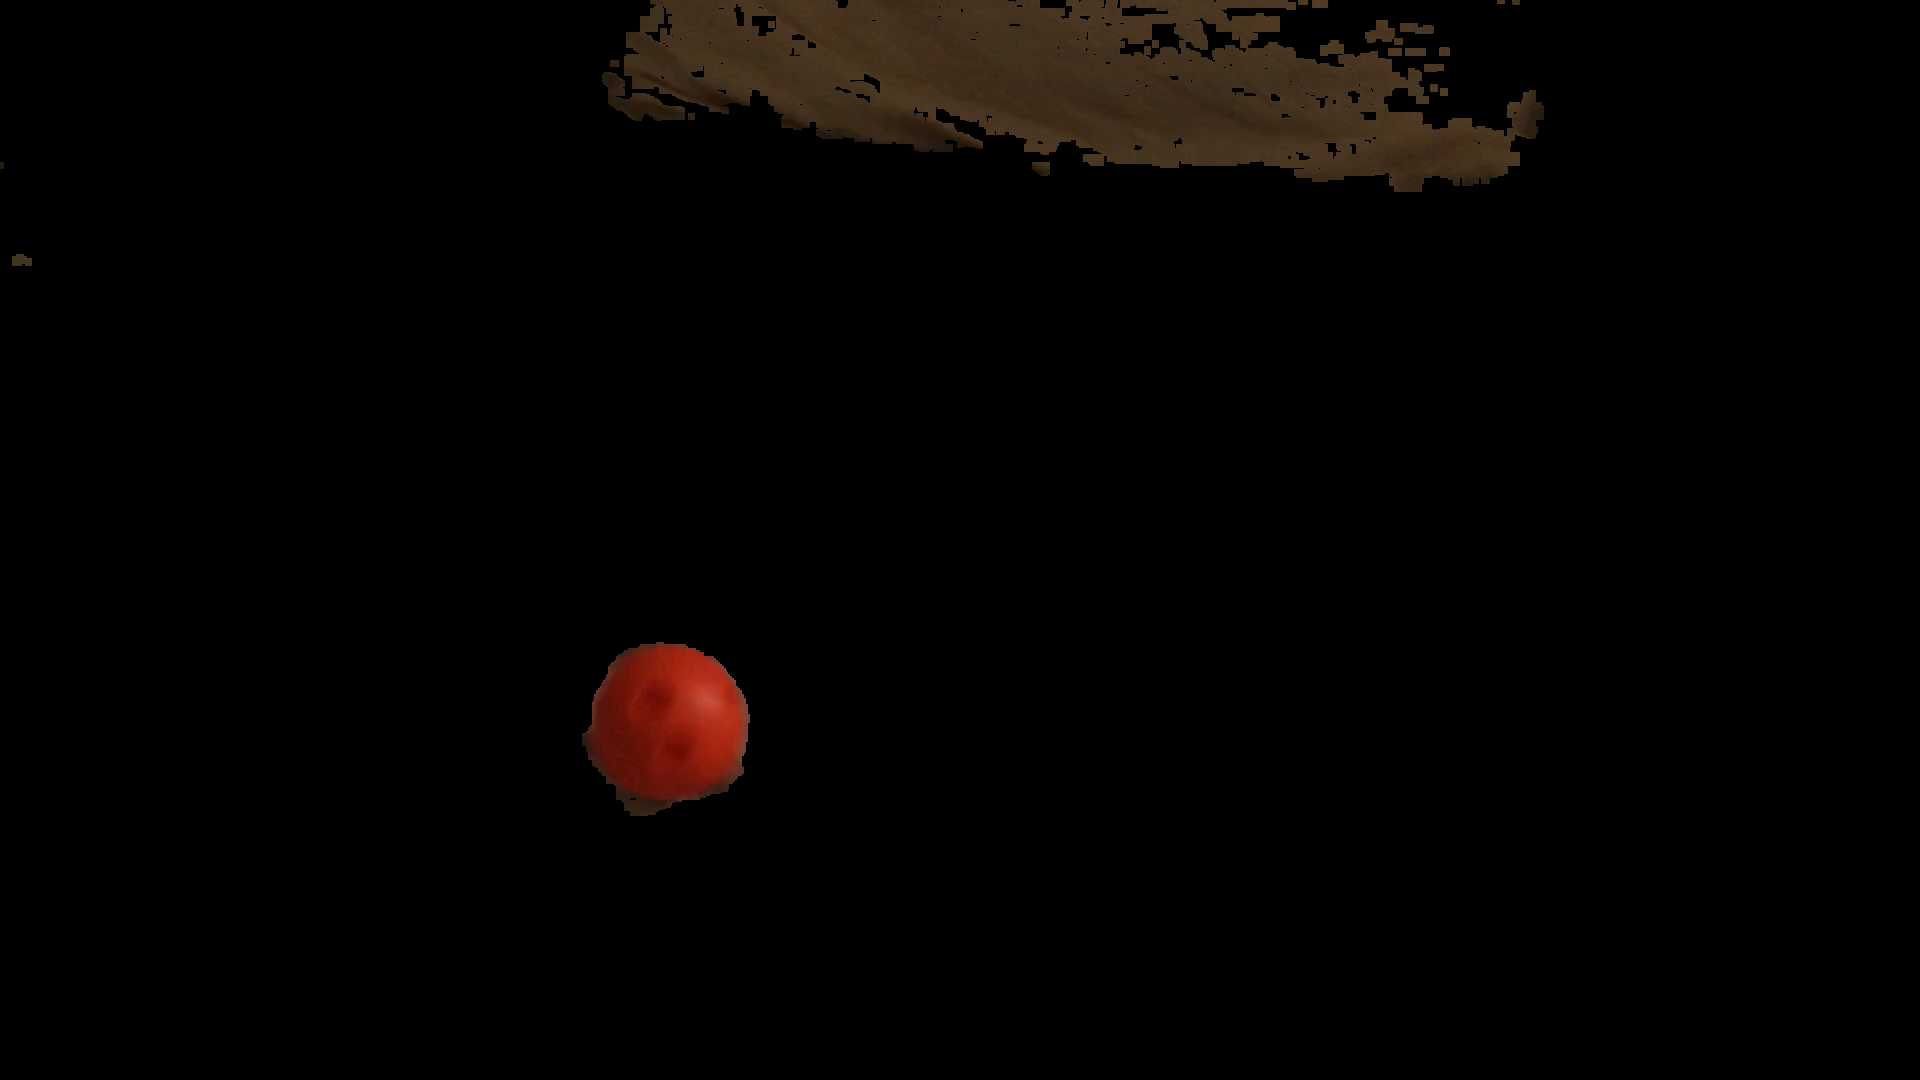Ball: (584, 642, 749, 798)
